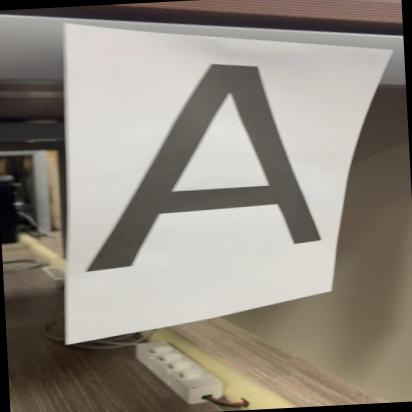seat: (83, 46, 331, 274)
